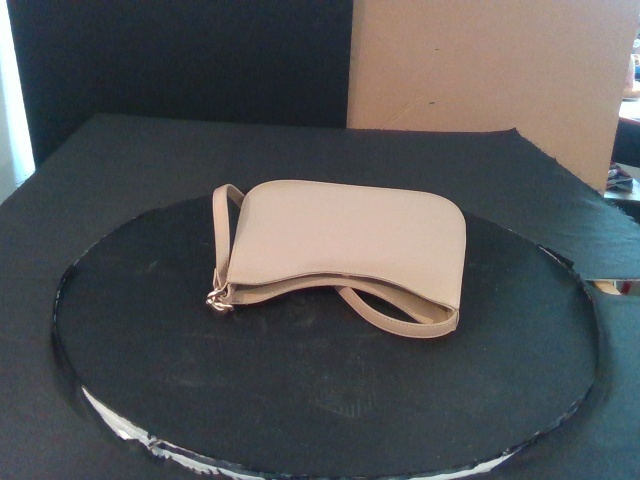bag: (219, 179, 467, 327)
